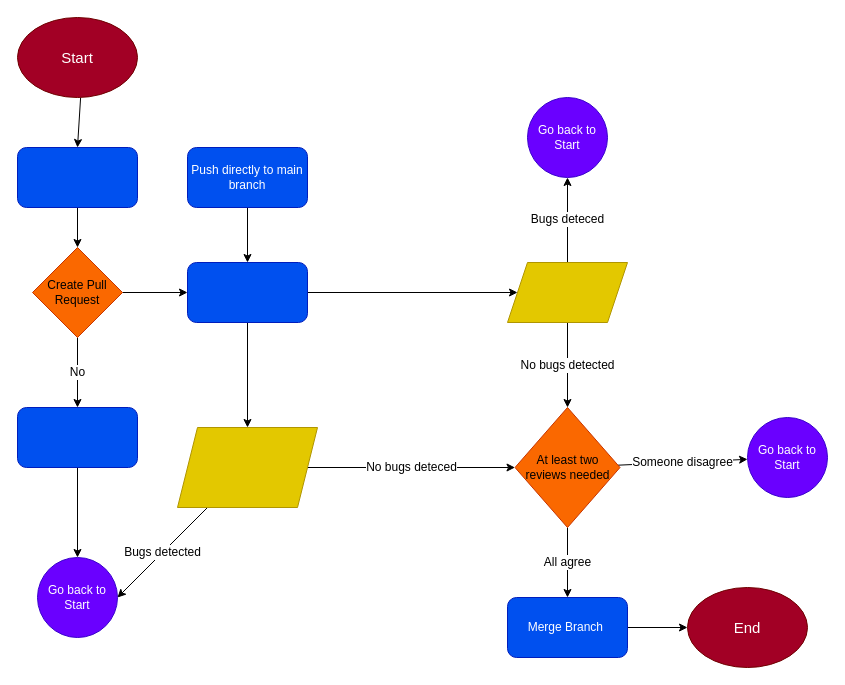
The diagram is 845 pixels wide and 685 high, and some of its shapes have lost their labels. The shapes that lost their labels are listed below. From the top down, each one's centre as x and y in pixels, then its label:
At (77,177): "Push changes to the remote branch".
At (247,292): "Build and Lint starts to check your codes".
At (567,292): "SuperLinter runs".
At (77,437): "Update your codes".
At (247,467): "JSDocs and Jest runs".
